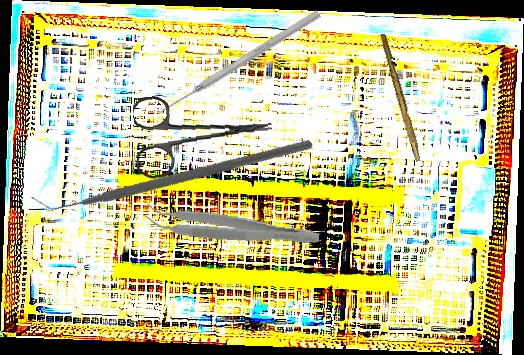Chopper: (29, 27, 315, 315)
Iris Scissors: (132, 88, 275, 180)
Pusher: (156, 8, 322, 118)
Scalpel Handle: (377, 33, 425, 162)
Tissue Forceps: (143, 200, 322, 251)
